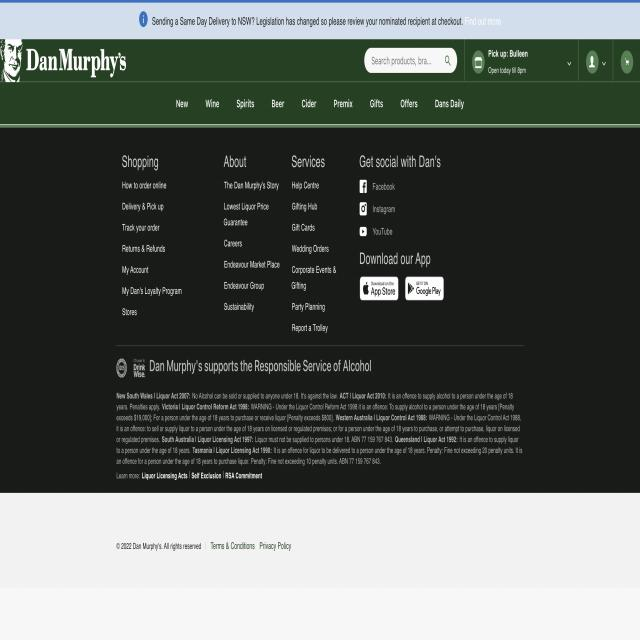Logo: (0, 41, 131, 81)
Navigation: (166, 79, 475, 120)
